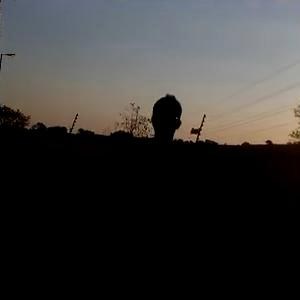follow: (91, 86, 196, 298)
